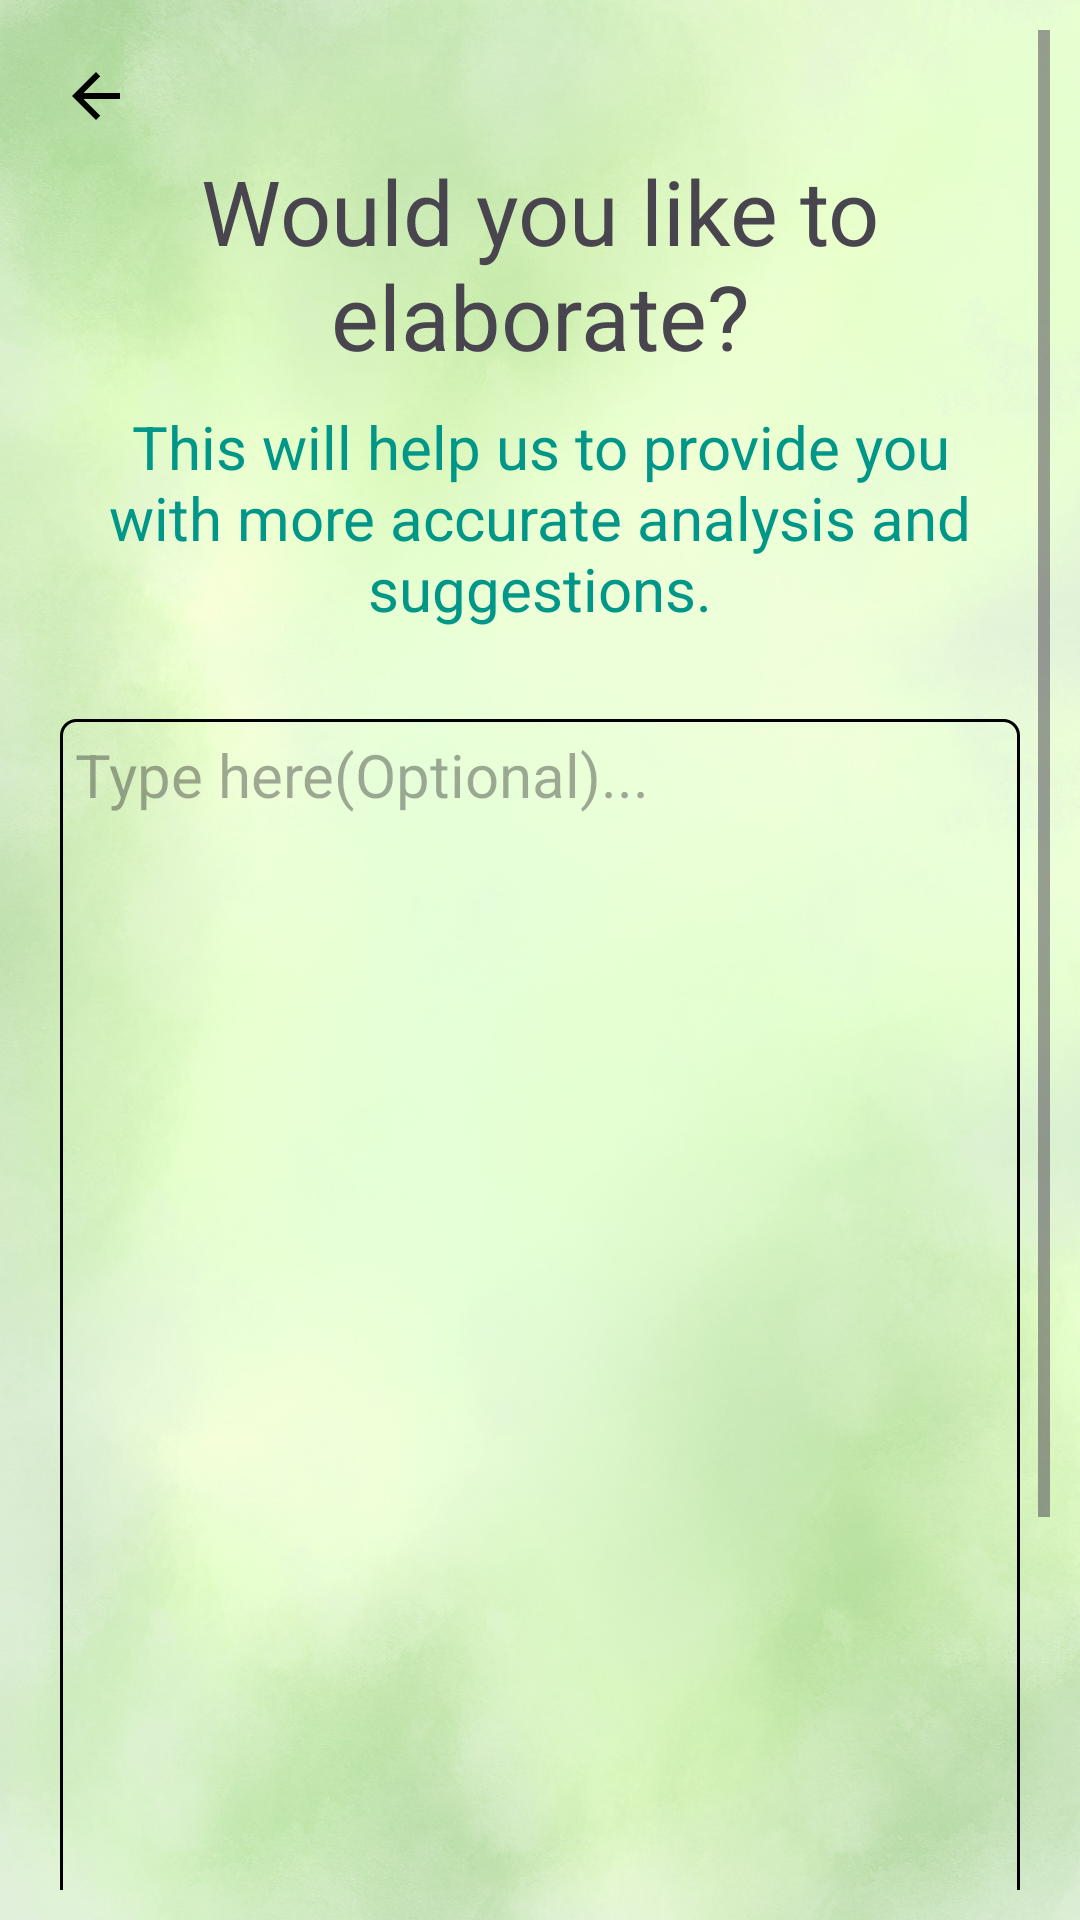

Locate icon controls on the screen. Image size 1080 x 1920, boxes as (x1, y1, x2, y2).
arrow back: (72, 61, 150, 120)
